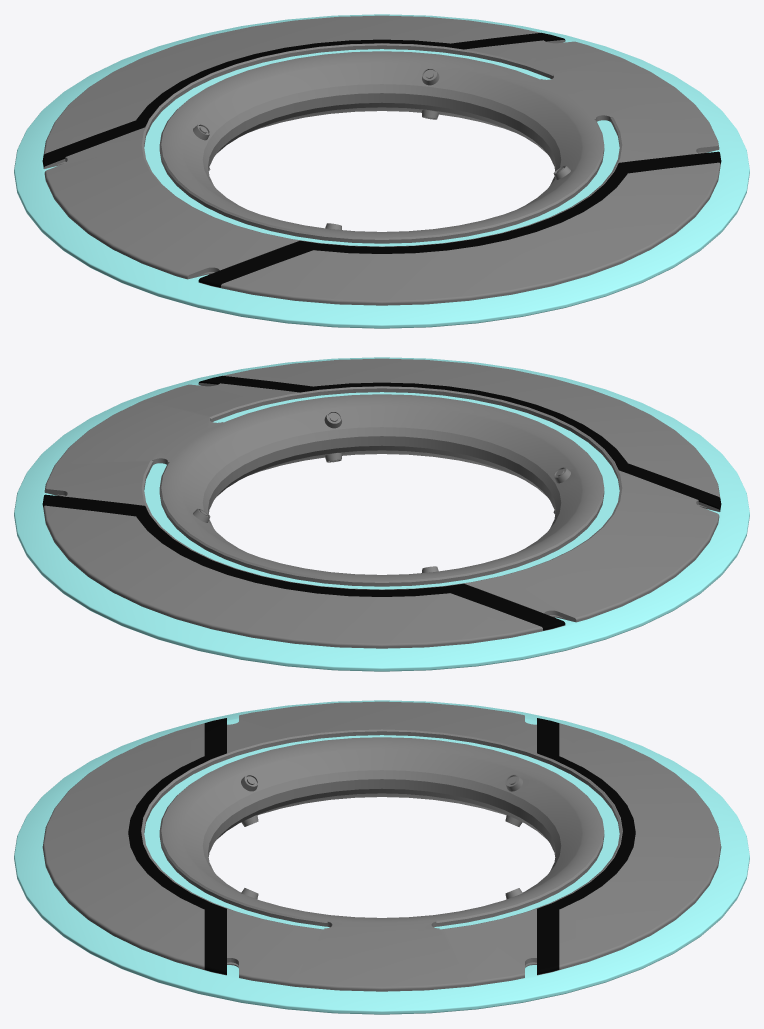
Rendered from tronDisc.fbx.
The picture shows the model from 3 angles, top to bottom: view 1: azimuth 30°, elevation 25°; view 2: azimuth 150°, elevation 25°; view 3: azimuth 270°, elevation 25°; orthographic projection.
Visible parts, largest first — view 1: torn legacy disk v2-0; view 2: torn legacy disk v2-0; view 3: torn legacy disk v2-0.
Boxes of the visible parts, x1=… form: torn legacy disk v2-0: x1=14, y1=14, x2=749, y2=328; torn legacy disk v2-0: x1=14, y1=357, x2=749, y2=671; torn legacy disk v2-0: x1=14, y1=700, x2=749, y2=1014.
Size of the model in its own units: 22843 by 1856 by 22843.
